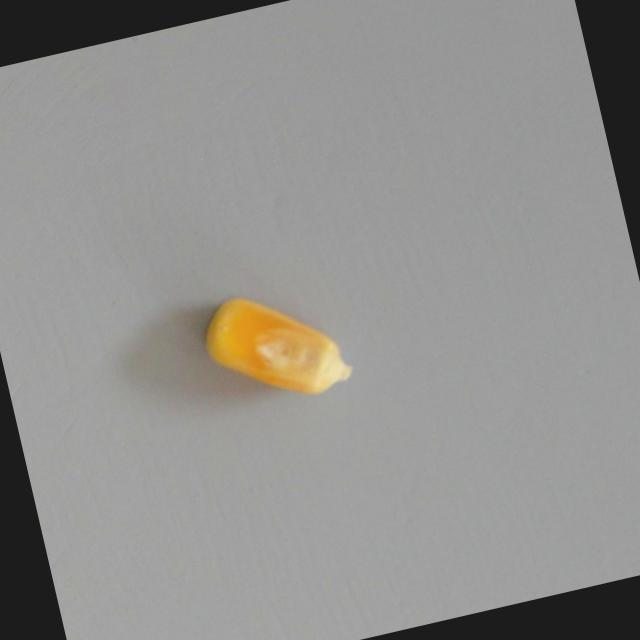entero: (182, 269, 362, 423)
